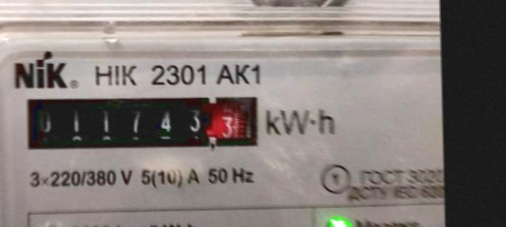0: (36, 106, 50, 134)
1: (97, 105, 109, 133), (68, 105, 78, 133)
3: (186, 105, 200, 133), (217, 114, 232, 139)
4: (156, 106, 170, 133)
7: (126, 104, 141, 132)
screen: (13, 82, 268, 162)
